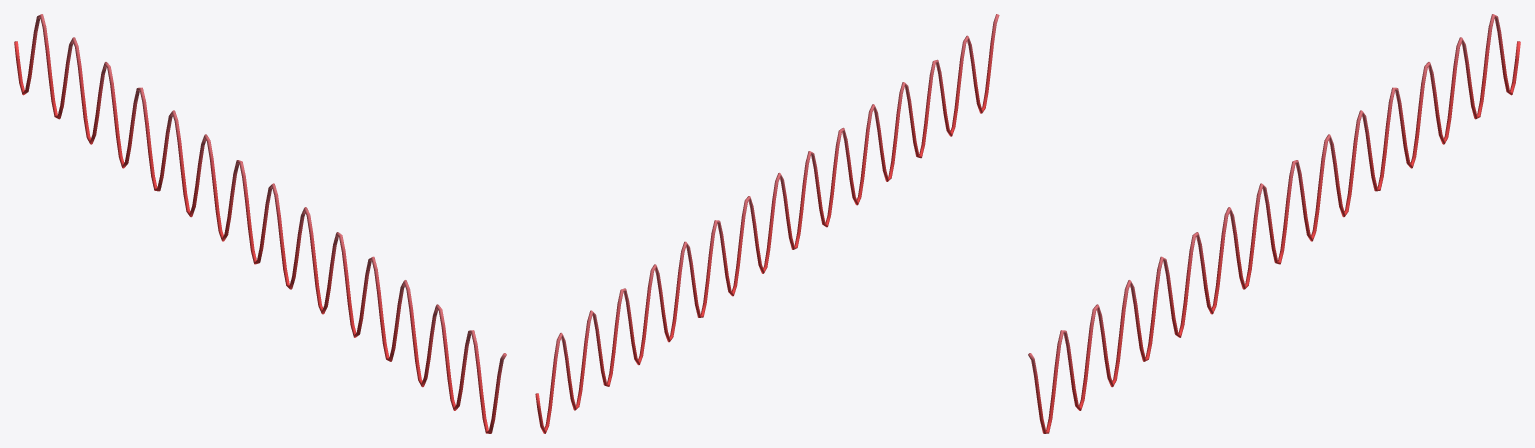
Rendered from Gamma-final.glb.
3 views of the same model, side by side, from view 1: azimuth 30°, elevation 25°; view 2: azimuth 150°, elevation 25°; view 3: azimuth 330°, elevation 25° (orthographic). The views are drawn at different scales.
Visible parts, largest first — view 1: Gamma; view 2: Gamma; view 3: Gamma.
Part boxes in pixels (<box>): Gamma: <box>14,14,506,433</box>; Gamma: <box>535,14,999,433</box>; Gamma: <box>1028,14,1520,433</box>.
Bounding box in the file's own units: 0.0233 × 0.6332 × 5.94.
Materials: 1 (1 with a texture image).
